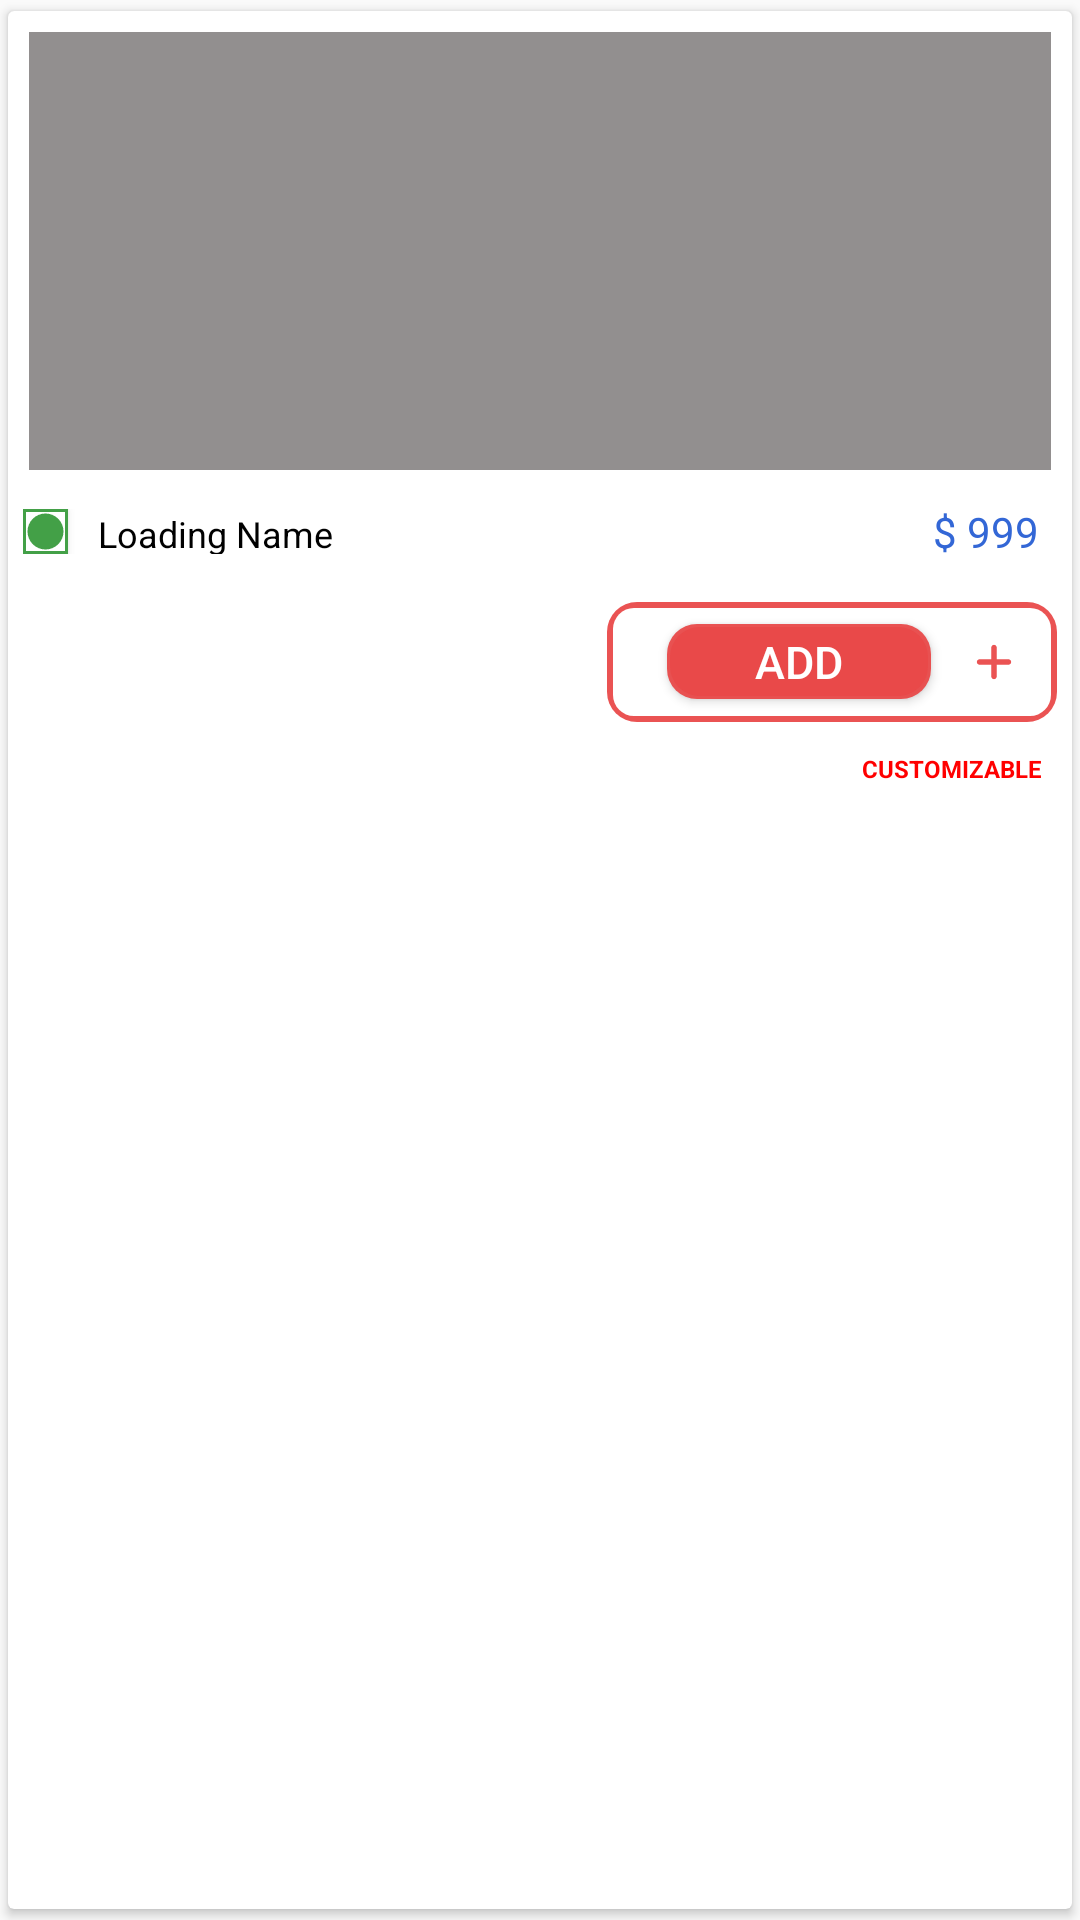

Screen size 1080x1920. Icon name, then its box in pixels as Rect(x1, y1, x2, y2):
plus: Rect(977, 645, 1011, 679)
veg: Rect(23, 509, 68, 554)
